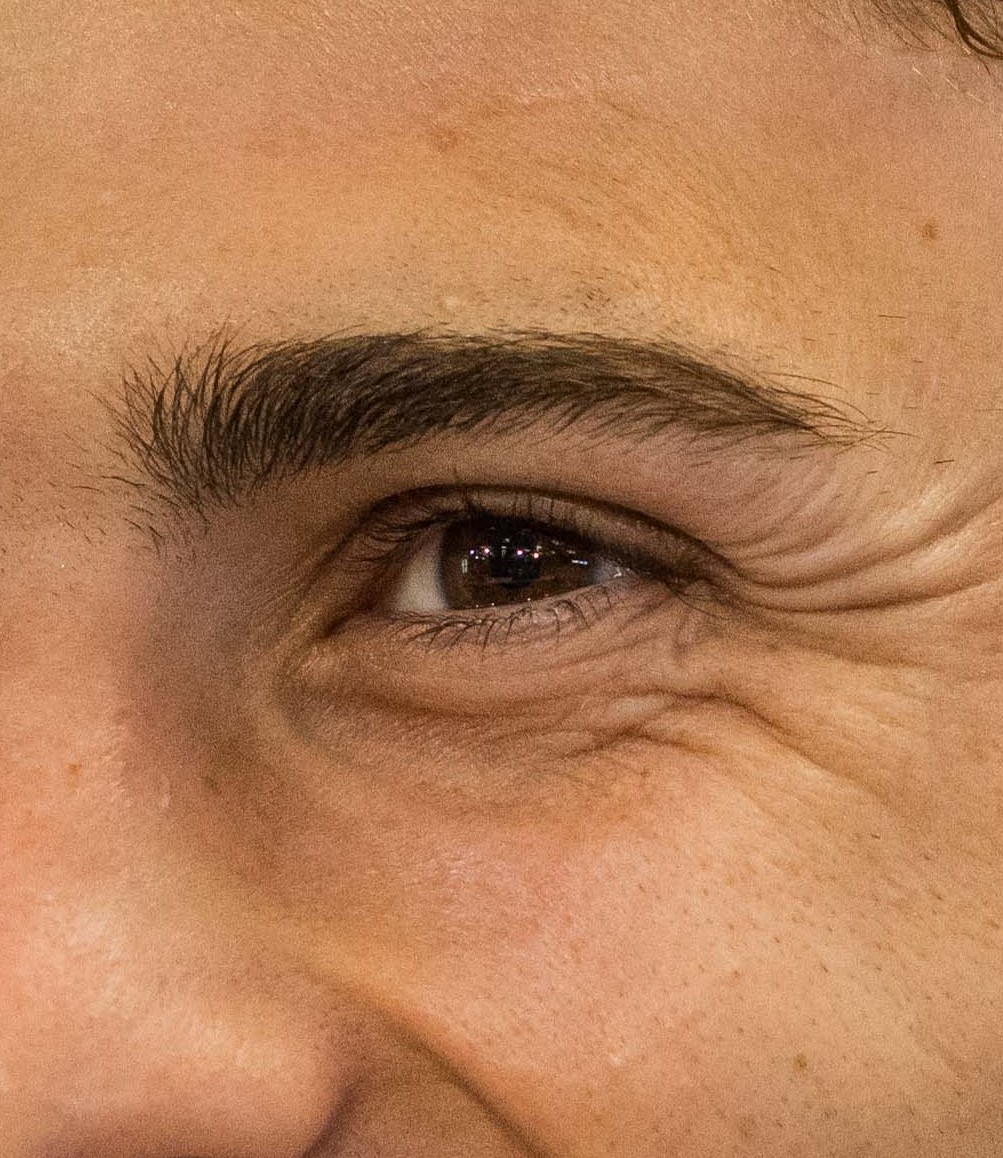iris: (442, 526, 597, 615)
pupil: (480, 528, 548, 586)
sclera: (391, 530, 448, 616), (597, 553, 650, 591)
